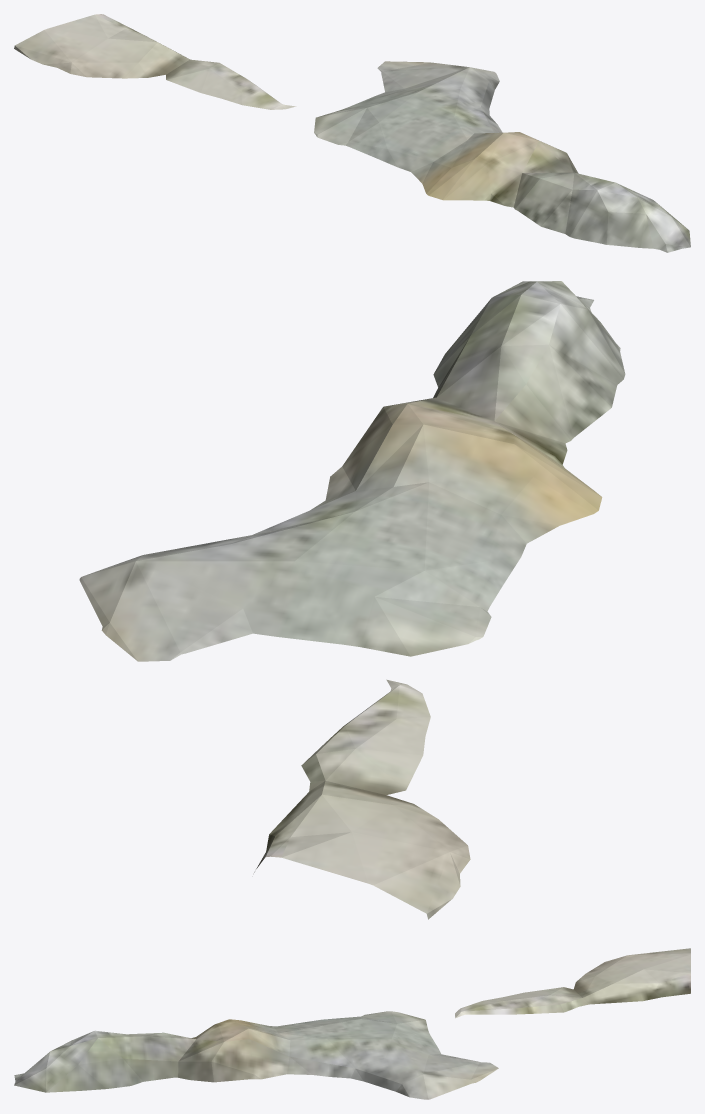
3 renders of one model, top to bottom at view 1: azimuth 30°, elevation 25°; view 2: azimuth 150°, elevation 25°; view 3: azimuth 270°, elevation 25°, orthographic. The views are drawn at different scales.
Size of the model in its own units: 1.34 by 0.1451 by 2.58.
1 material, 1 textured.
